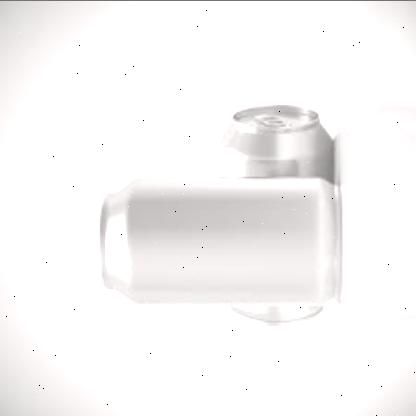Can: (100, 178, 340, 305), (215, 104, 335, 326)
